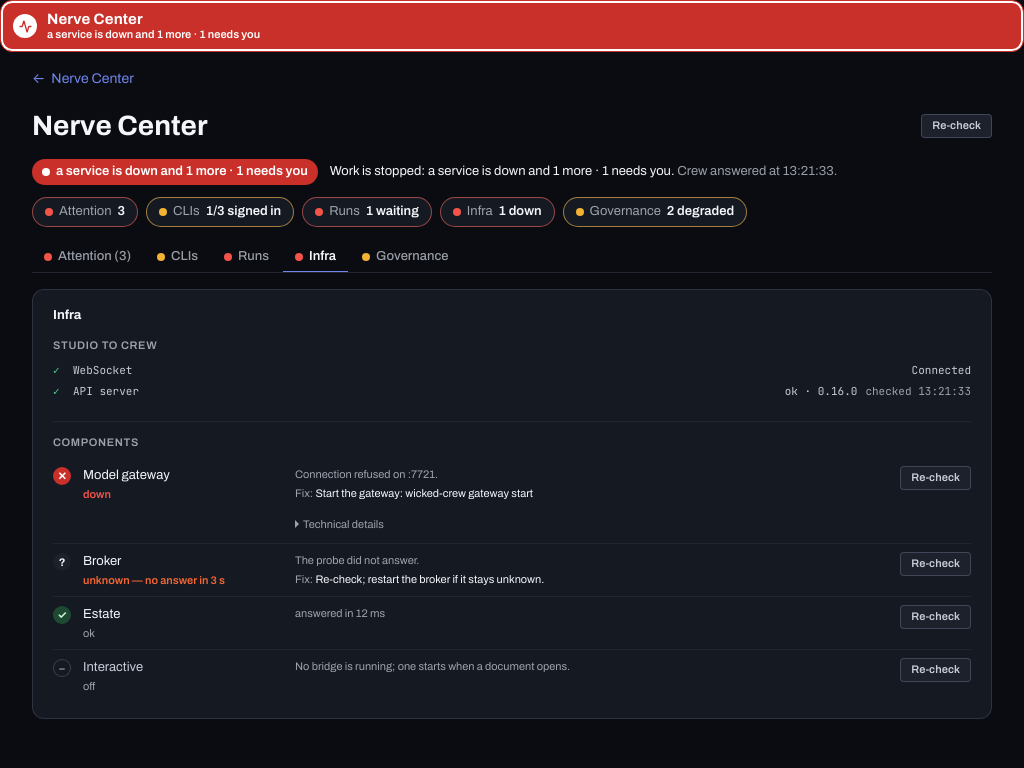
Test: against a crew with the system snapshot › Infra: down with its remedy and raw probe; a hung probe is unknown with its timeout; Re-check re-reads
Expected: the text with test id "nc-infra-remedy" shows "Start the gateway", [315,486,533,498]
Expected: the element with test id "nc-infra-detail" is shown, [303,518,384,530]
Click the button with test id "nc-infra-recheck" in the row of "Model gateway": coordinates (936, 478) [900,466,971,490]
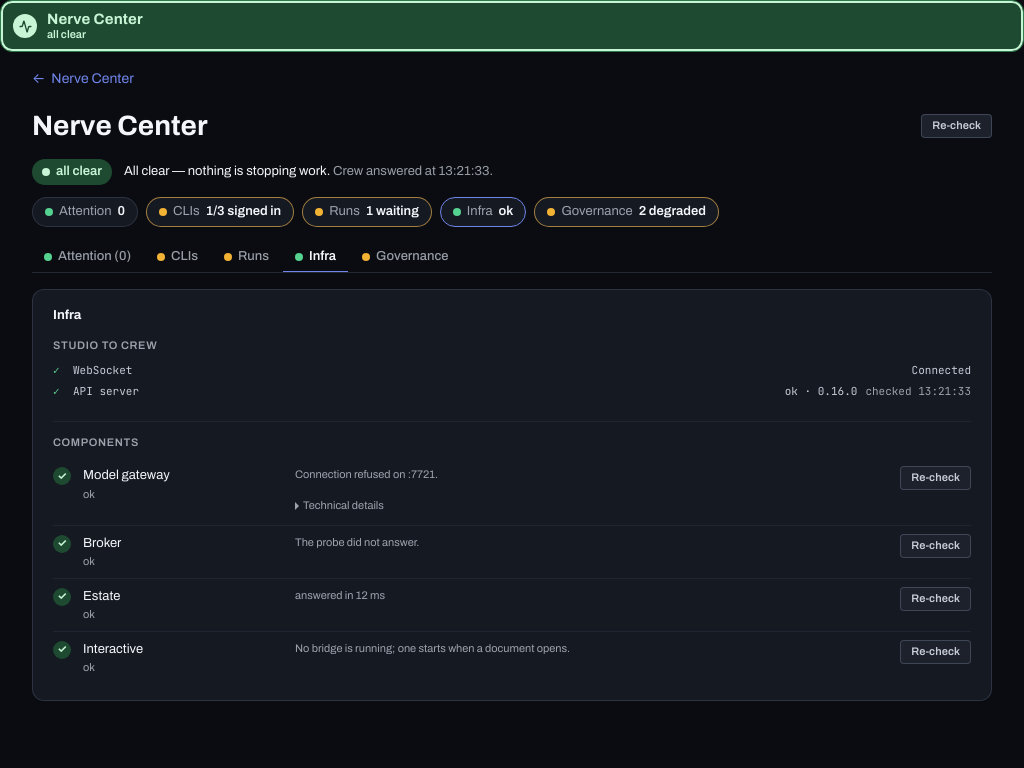
Result: the list item with test id "nc-infra" has attribute data-state="ok" at [53,458,971,526]
Result: the link with test id "desk-rail-nerve" has attribute data-tone="green" at [0,0,1023,52]
Result: the button with test id "nc-chip" has attribute data-tone="ok" at [440,196,526,226]
Click the tab with test id "nc-tab" showing "Attention (0)": coordinates (88, 258) [32,242,143,272]
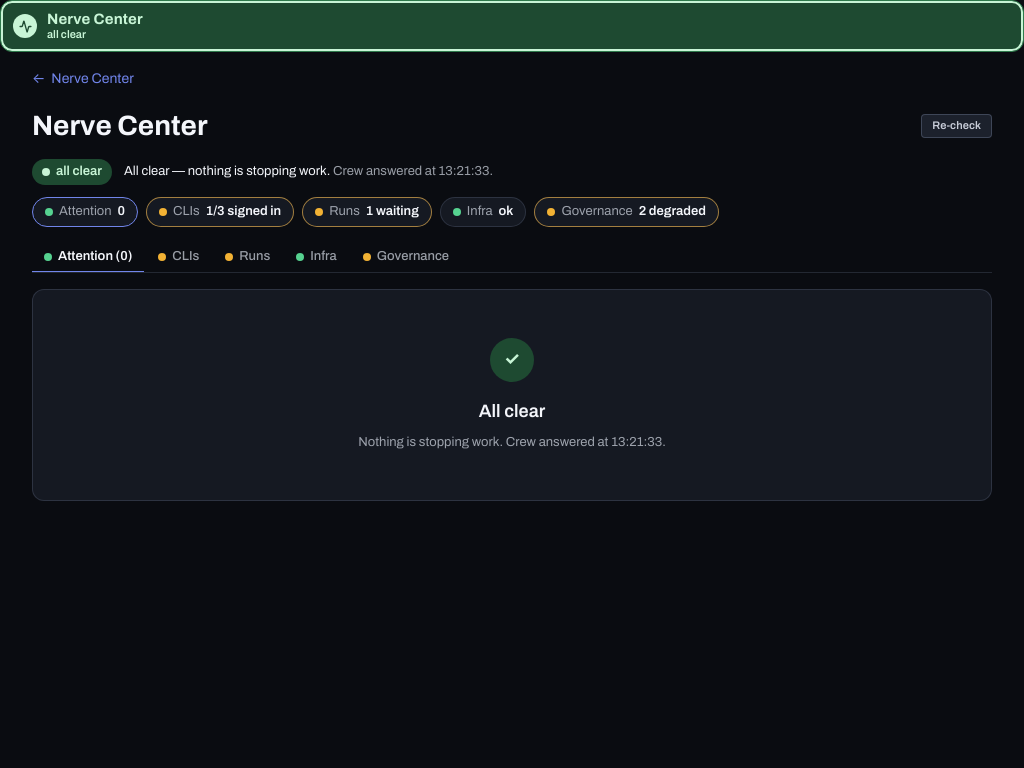
Result: the element with test id "nc-attention-empty" is shown at [32,288,992,501]
